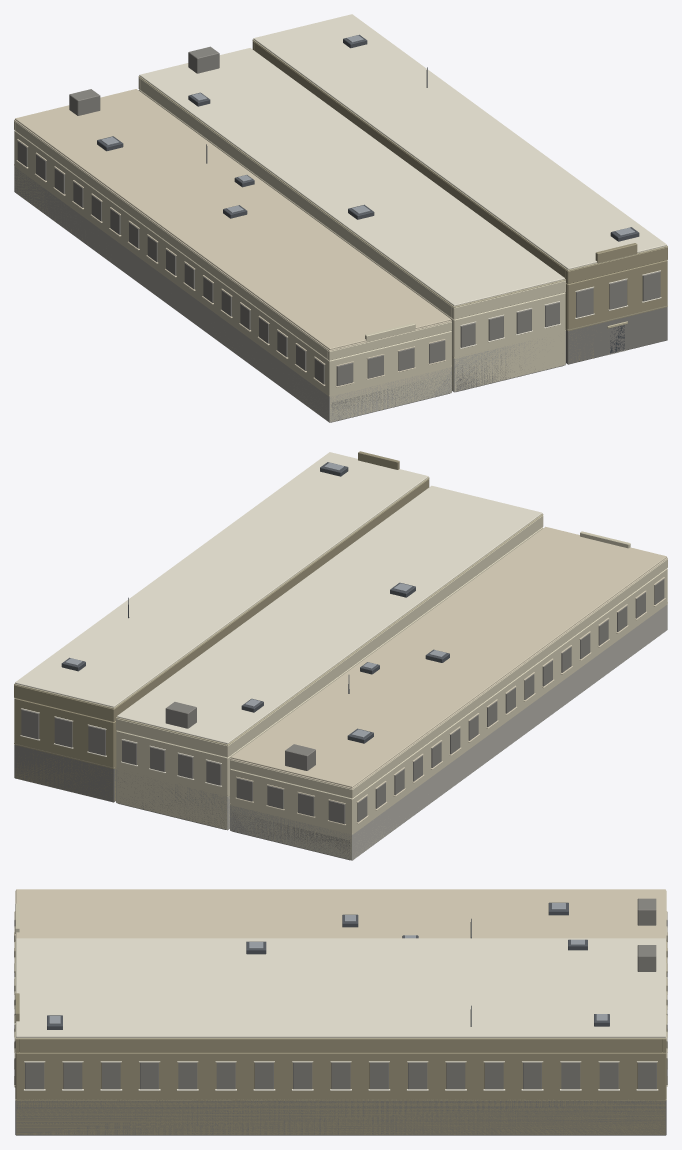
File: VG_Bld_Downtown_16.fbx
The picture shows the model from 3 angles, top to bottom: view 1: azimuth 30°, elevation 25°; view 2: azimuth 150°, elevation 25°; view 3: azimuth 270°, elevation 25°; orthographic projection. The views are drawn at different scales.
Visible parts, largest first — view 1: VG_Bld_Downtown_16_Body; view 2: VG_Bld_Downtown_16_Body; view 3: VG_Bld_Downtown_16_Body.
Boxes of the visible parts, bbox=[...] form: VG_Bld_Downtown_16_Body: bbox=[14, 14, 667, 422]; VG_Bld_Downtown_16_Body: bbox=[14, 451, 667, 860]; VG_Bld_Downtown_16_Body: bbox=[14, 889, 667, 1135].
Bounding box in the file's own units: 48 × 15.6 × 77.
